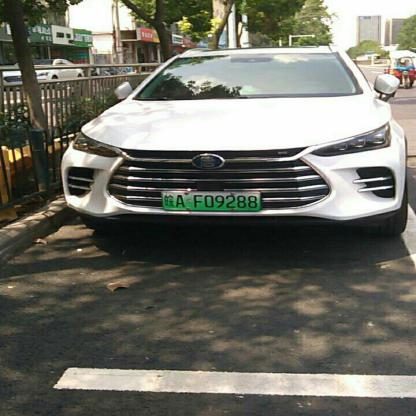lp: (162, 191, 259, 209)
